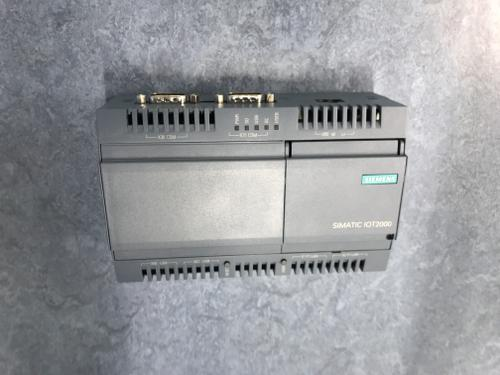device: (92, 92, 405, 284)
